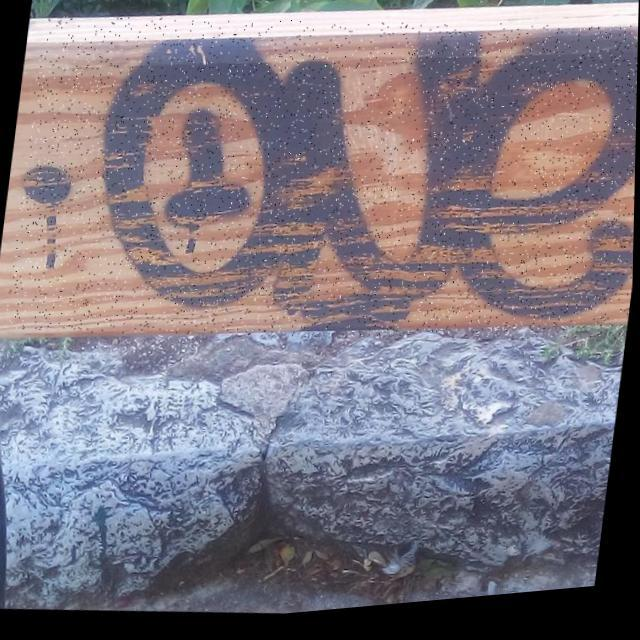-: (4, 0, 640, 396)
